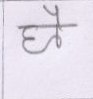ai_matra: (43, 4, 64, 23)
